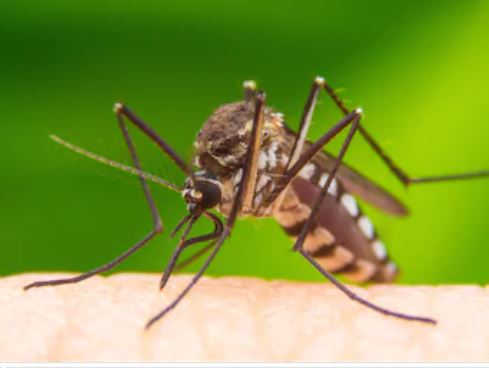dengue_mosquito: (68, 74, 399, 285)
